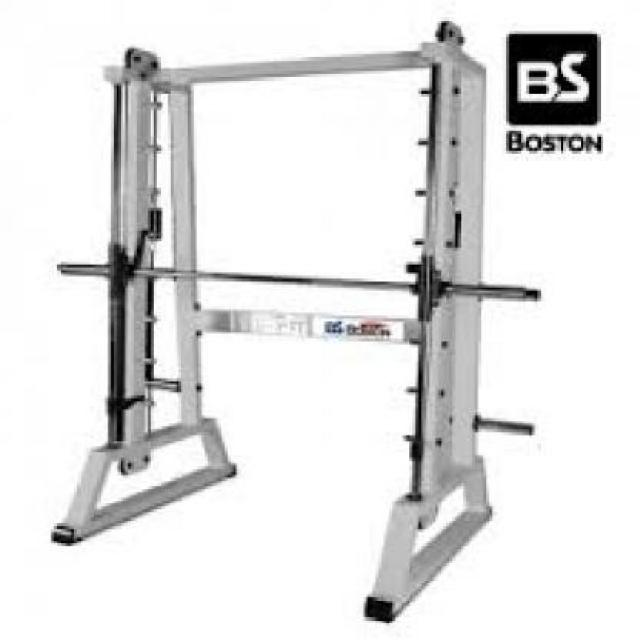smith machine: (52, 19, 503, 623)
